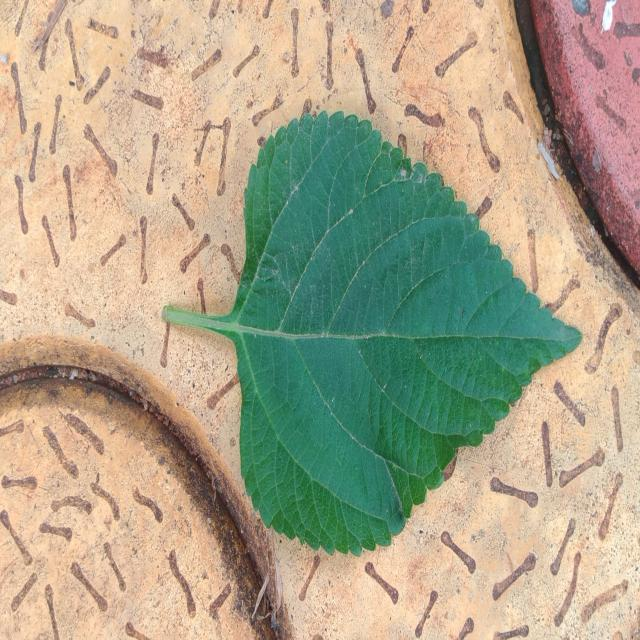Lantana: (162, 111, 581, 556)
